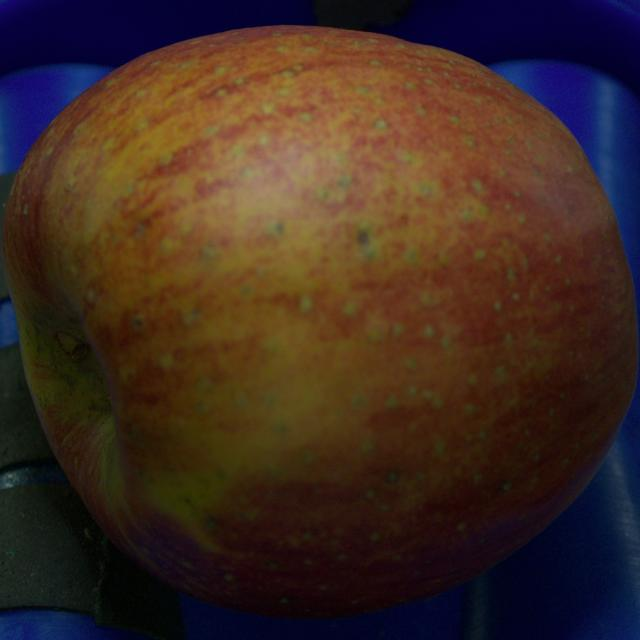apple: (4, 26, 638, 616)
pest: (56, 332, 89, 361), (359, 230, 369, 245)
